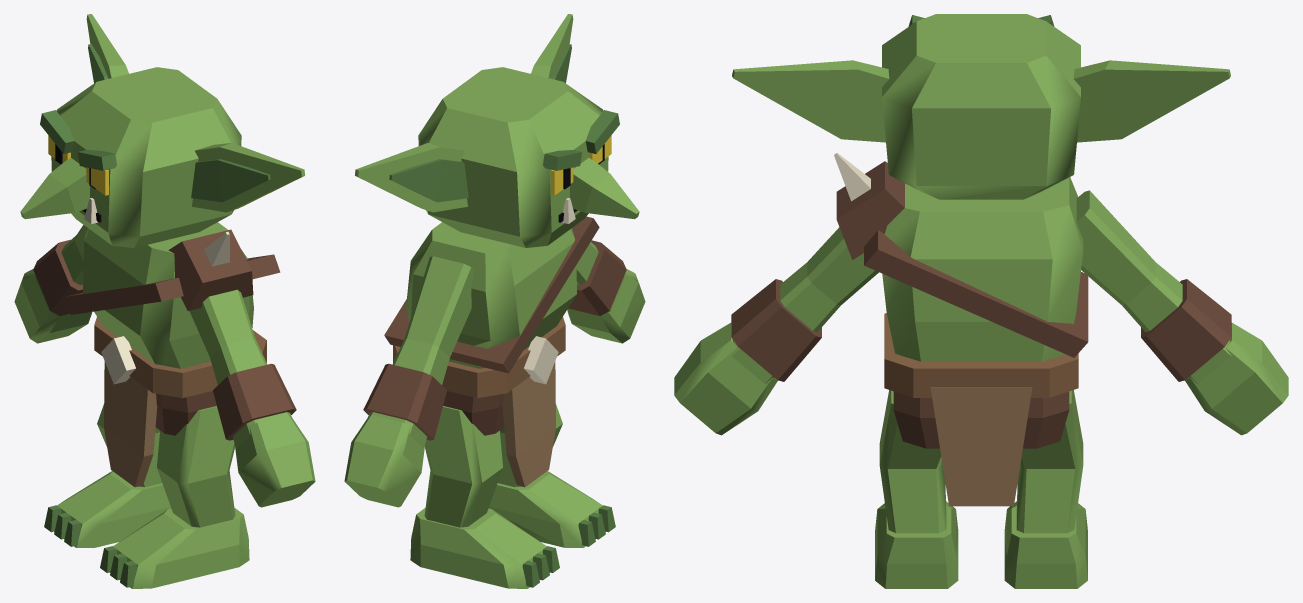
File: Goblin2.glb
3 views of the same model, side by side, from view 1: azimuth 30°, elevation 25°; view 2: azimuth 150°, elevation 25°; view 3: azimuth 270°, elevation 25° (orthographic). The views are drawn at different scales.
Parts seen in each view (by area): view 1: Goblin.092; view 2: Goblin.092; view 3: Goblin.092.
Part boxes in pixels (box(x1,y1,x2,y2)): Goblin.092: box(14, 14, 315, 588); Goblin.092: box(344, 14, 645, 588); Goblin.092: box(674, 14, 1288, 588).
Size of the model in its own units: 0.6313 by 1.24 by 1.33.
